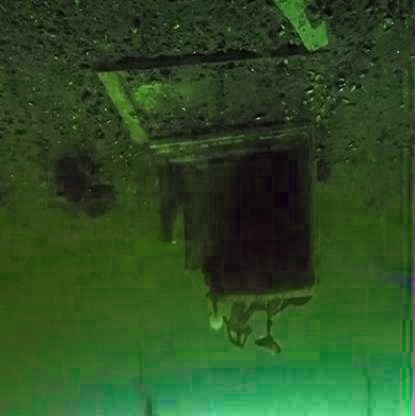misc: (131, 95, 343, 372)
